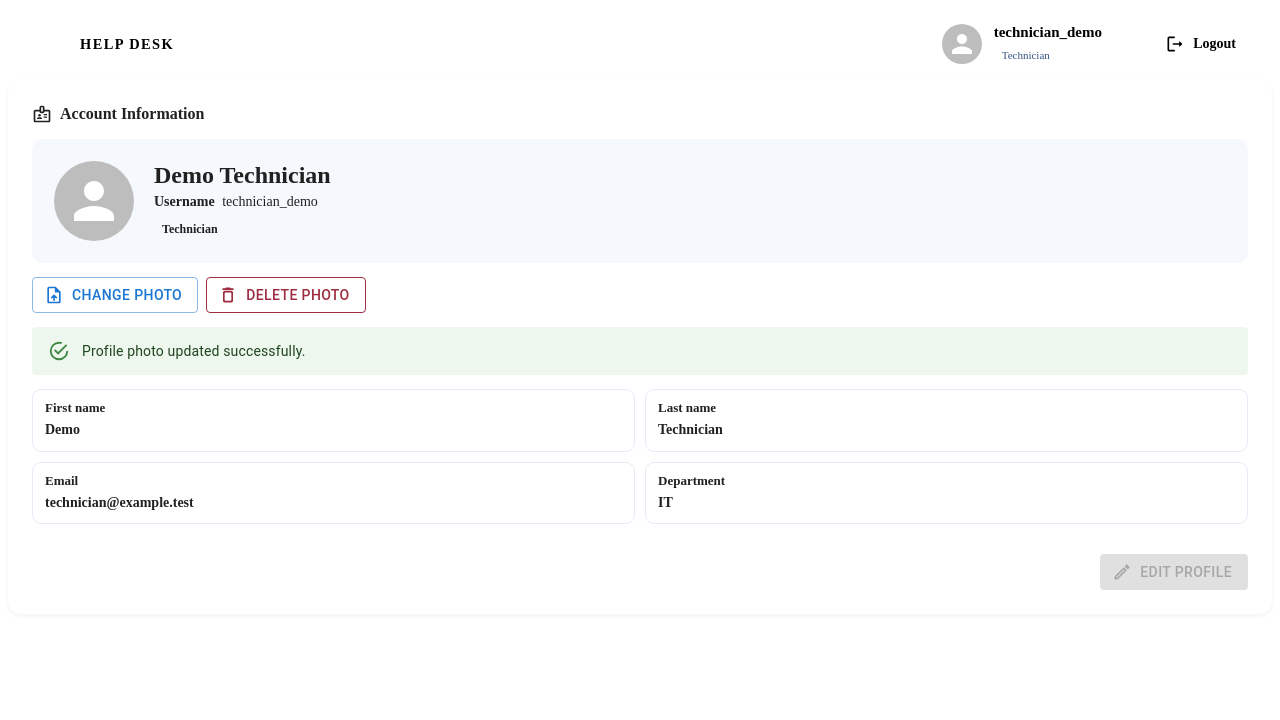
updates the profile and header avatars after a demo account uploads and deletes its photo
Earlier steps of the test are not shown.
Later steps or results of the test are not shown.
Expected: the button "Edit Profile" is disabled, [1100,554,1248,590]
Expected: the button named "Upload photo" is enabled, [32,277,198,313]
Click the button "Delete photo": {"x": 286, "y": 295} [206,277,366,313]
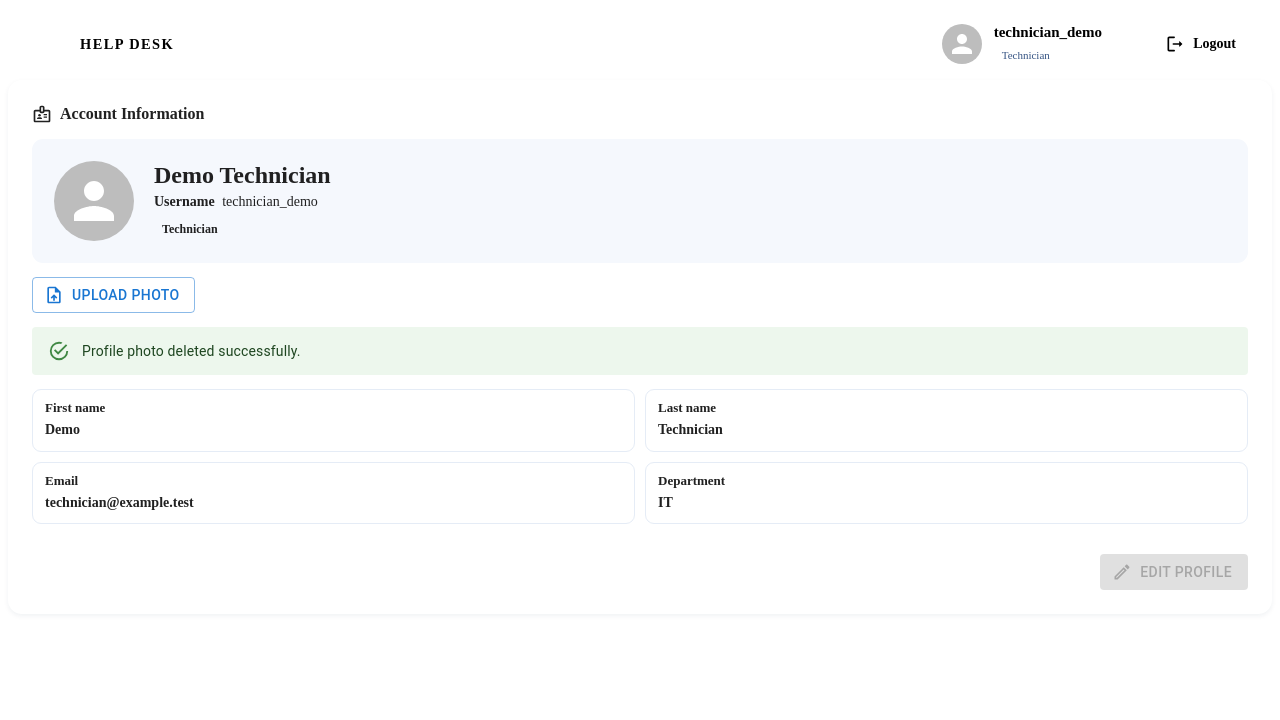
Expected: the button "Upload photo" is enabled, [32,277,196,313]
Now the message reads "Profile photo deleted successfully.", box [82,343,301,359]
Now the button "Delete photo" is gone
